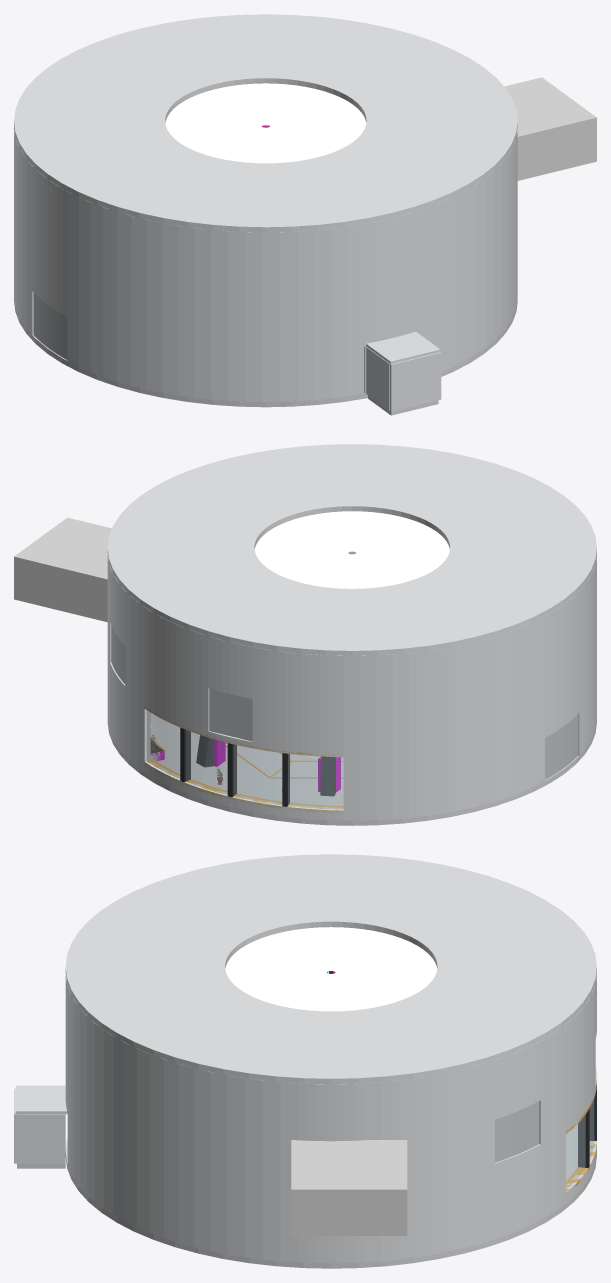
Rendered from _tmp_head_l2atrium.glb.
The picture shows the model from 3 angles, top to bottom: view 1: azimuth 30°, elevation 25°; view 2: azimuth 150°, elevation 25°; view 3: azimuth 270°, elevation 25°; orthographic projection. The views are drawn at different scales.
Visible parts, largest first — view 1: Atrium_Ceiling, Atrium_Wall, Atrium_LiftCab, COL_VossWallS, COL_VossCeil, Atrium_Floor, DOOR_PODS; view 2: Atrium_Ceiling, Atrium_Wall, Atrium_Window, Atrium_Floor, COL_VossWallN, COL_VossCeil, DOOR_PODS, Atrium_Pillars, LABDOOR_R, LABDOOR_L, COL_Atrium, DOOR_KESSLER; view 3: Atrium_Ceiling, Atrium_Wall, COL_VossCeil, COL_VossWallE, Atrium_LiftCab, Atrium_Floor, DOOR_KESSLER, Atrium_Window.
Boxes of the visible parts, x1,y1,x2,y2 form: Atrium_Ceiling: (14,14,517,232); Atrium_Wall: (14,127,517,401); Atrium_LiftCab: (366,331,441,415); COL_VossWallS: (517,119,596,179); COL_VossCeil: (504,77,596,138); Atrium_Floor: (14,297,517,407); DOOR_PODS: (33,293,67,359); Atrium_Ceiling: (107,444,596,655); Atrium_Wall: (107,551,596,820); Atrium_Window: (144,707,343,812); Atrium_Floor: (107,713,596,825); COL_VossWallN: (14,558,107,620); COL_VossCeil: (14,517,111,580); DOOR_PODS: (545,714,577,779); Atrium_Pillars: (196,735,336,796); LABDOOR_R: (231,694,252,741); LABDOOR_L: (209,688,230,736); COL_Atrium: (151,739,340,792); DOOR_KESSLER: (111,625,125,684); Atrium_Ceiling: (65,854,596,1084); Atrium_Wall: (65,973,596,1263); COL_VossCeil: (291,1140,407,1191); COL_VossWallE: (291,1191,407,1234); Atrium_LiftCab: (14,1085,66,1168); Atrium_Floor: (65,1124,596,1268); DOOR_KESSLER: (495,1101,539,1162); Atrium_Window: (566,1083,596,1191).
Bounding box in the file's own units: 42.54 × 14.4 × 38.4.
Materials: 80 (21 with a texture image).
